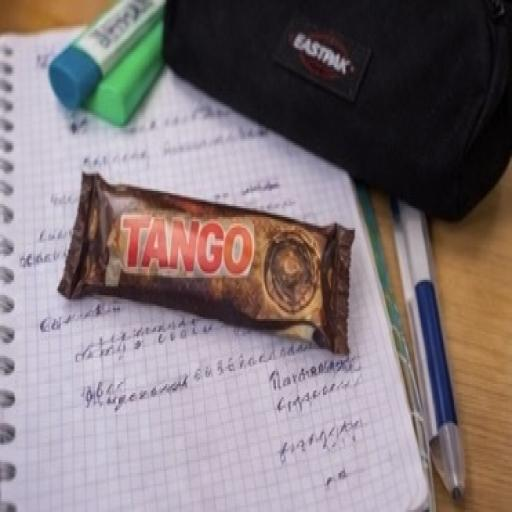tango: (48, 116, 367, 389)
